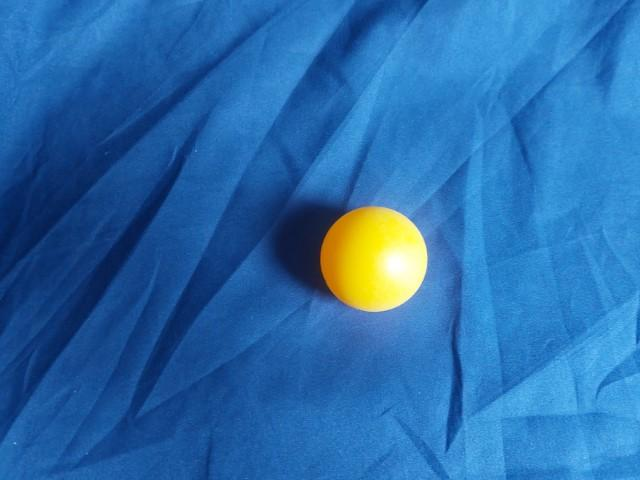oball: (201, 161, 326, 283)
